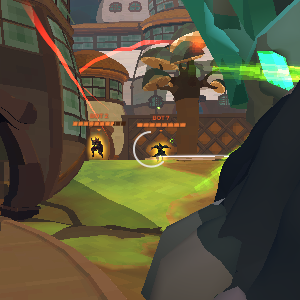model: (80, 132, 111, 162), (147, 140, 173, 163)
